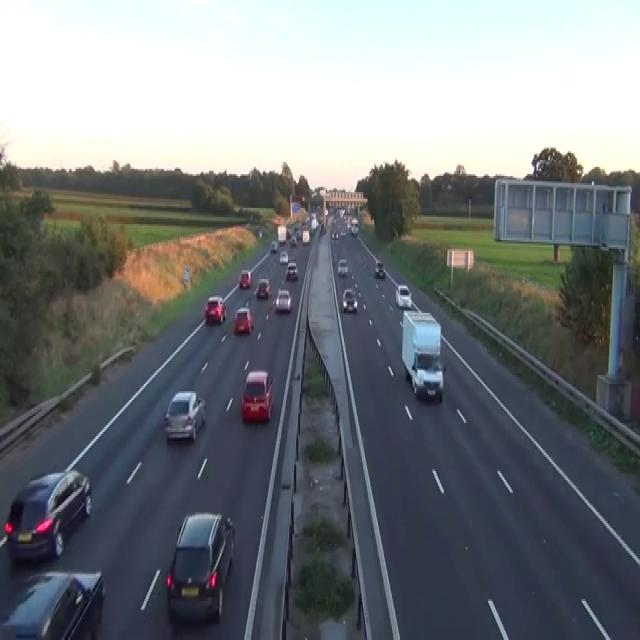Car: (4, 468, 92, 562), (165, 510, 235, 622), (0, 569, 105, 638), (163, 389, 206, 441), (241, 370, 273, 423), (412, 350, 444, 402), (204, 295, 226, 324), (233, 306, 253, 334), (275, 288, 292, 311), (395, 284, 411, 308), (342, 288, 357, 313), (255, 277, 271, 297), (238, 268, 251, 288), (285, 261, 298, 281), (374, 260, 385, 278), (337, 258, 348, 276), (279, 251, 288, 263), (293, 226, 301, 238), (331, 229, 339, 240), (270, 240, 277, 252), (289, 237, 297, 247), (310, 220, 316, 233), (302, 217, 309, 227), (320, 222, 326, 233), (339, 208, 345, 219), (286, 228, 291, 238), (340, 230, 345, 237), (258, 228, 262, 236)
Truck: (401, 309, 444, 402), (277, 224, 286, 244)
